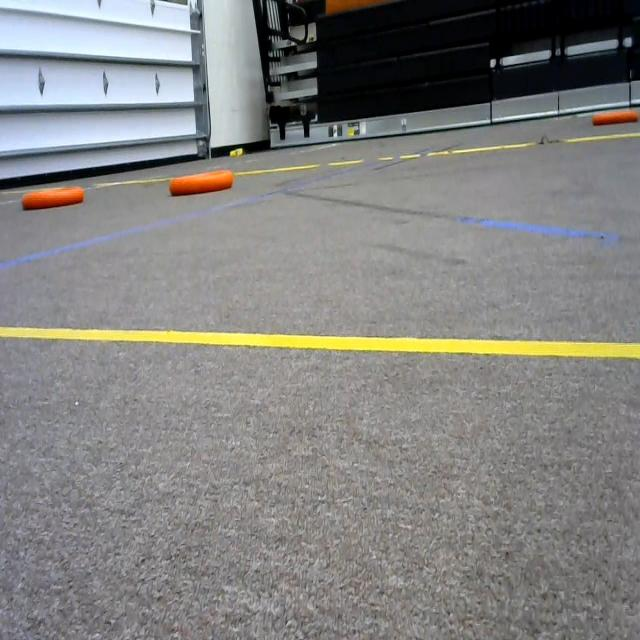note: (16, 180, 92, 217), (164, 165, 235, 203), (587, 103, 640, 132)
